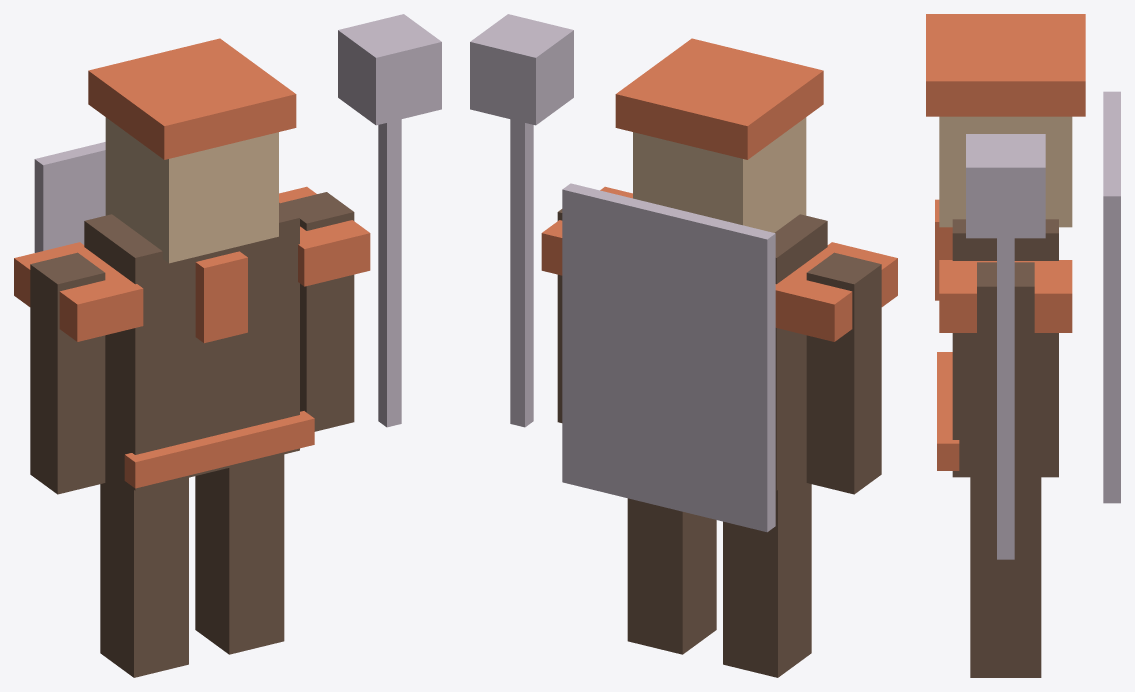
Rendered from 10_luma_tideforged_archivist_near_stanza.glb.
3 views of the same model, side by side, from view 1: azimuth 30°, elevation 25°; view 2: azimuth 150°, elevation 25°; view 3: azimuth 270°, elevation 25° (orthographic). The views are drawn at different scales.
Visible parts, largest first — view 1: Luma Tideforged, Archivist near Stanza; view 2: Luma Tideforged, Archivist near Stanza; view 3: Luma Tideforged, Archivist near Stanza.
Boxes of the visible parts, box(x1,y1,x2,y2) form: Luma Tideforged, Archivist near Stanza: box(14, 14, 441, 677); Luma Tideforged, Archivist near Stanza: box(470, 14, 897, 677); Luma Tideforged, Archivist near Stanza: box(926, 14, 1120, 677).
Bounding box in the file's own units: 1.13 × 1.61 × 0.4819.
